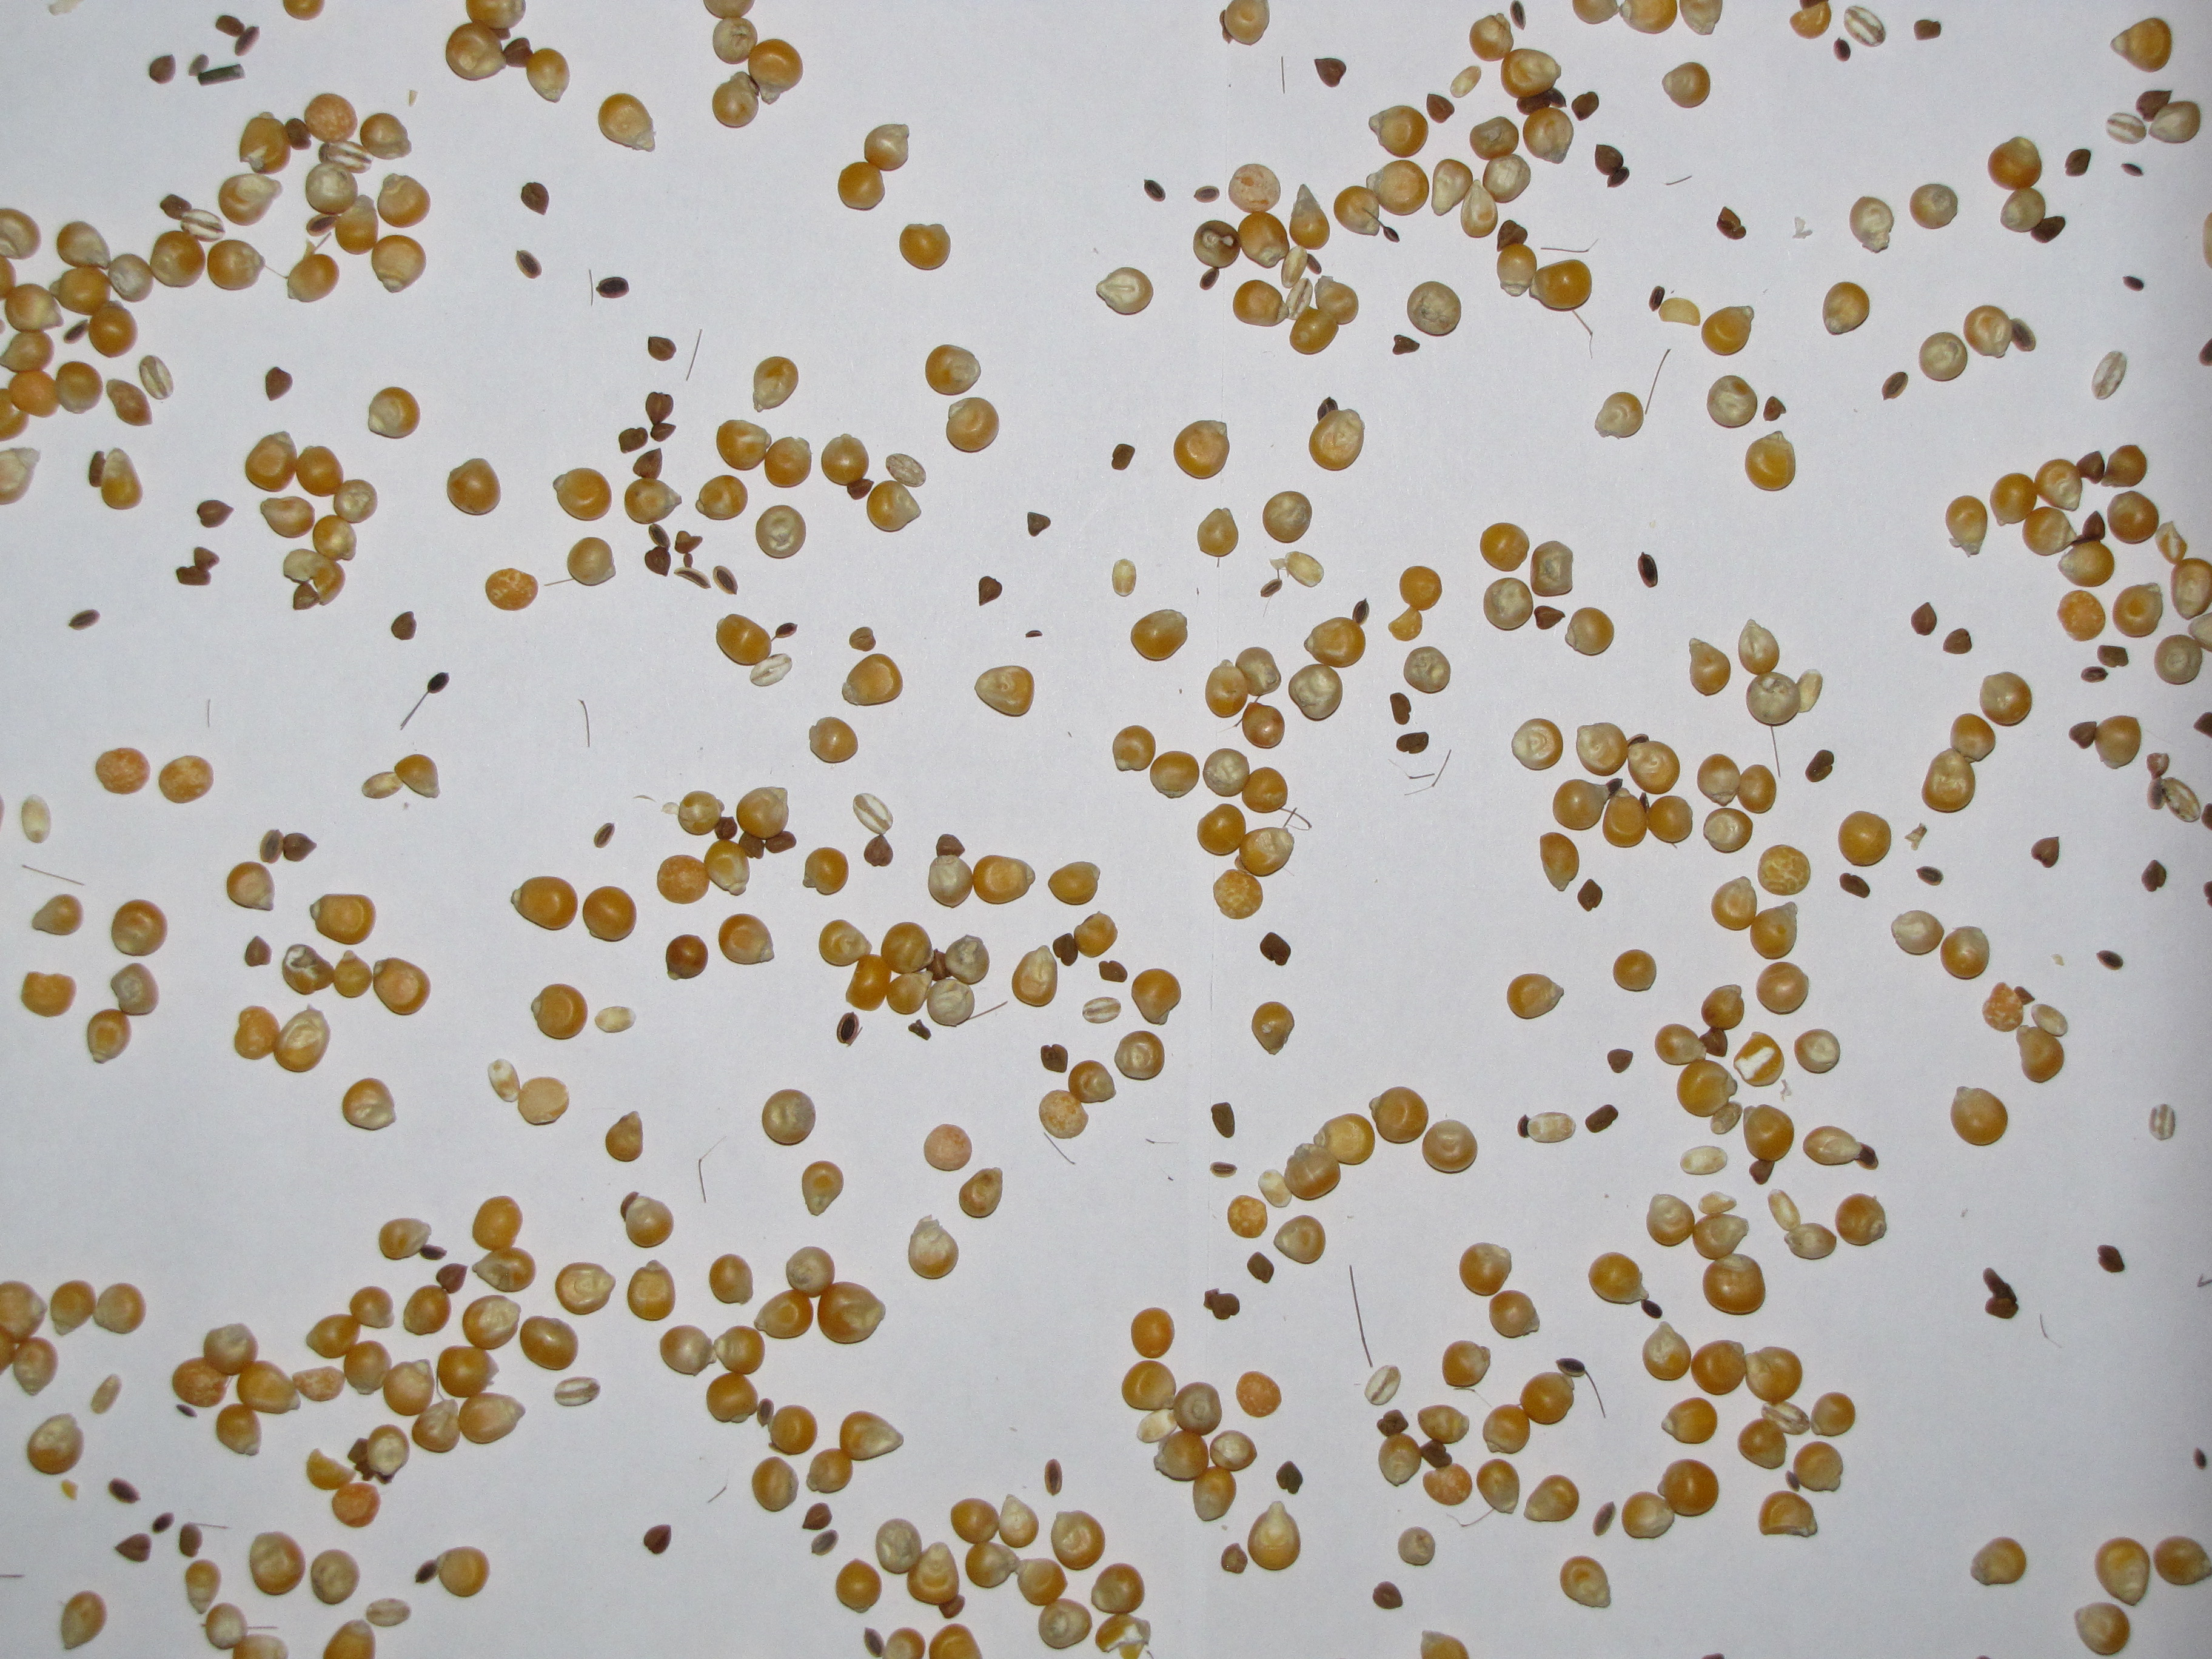mais: (361, 755, 441, 800), (1803, 1126, 1879, 1171), (852, 793, 894, 868), (620, 1192, 674, 1248), (341, 1077, 397, 1131), (376, 173, 430, 228), (2106, 490, 2160, 544), (1733, 1032, 1785, 1087), (1096, 267, 1155, 315), (1012, 945, 1057, 1007), (1756, 962, 1810, 1014), (1757, 843, 1811, 896), (1460, 1243, 1512, 1297), (1130, 969, 1181, 1025), (310, 1549, 361, 1605), (756, 504, 806, 559), (925, 345, 981, 396), (2113, 582, 2163, 638), (401, 673, 449, 730), (1759, 1490, 1818, 1537), (1289, 183, 1331, 249), (1559, 1556, 1611, 1608), (368, 387, 420, 439), (1702, 305, 1756, 356), (1707, 375, 1757, 429), (751, 1457, 799, 1513), (158, 755, 214, 803), (1970, 1537, 2026, 1586), (1507, 972, 1564, 1019), (1982, 981, 2034, 1032), (1512, 718, 1562, 770), (1822, 281, 1871, 335), (1263, 490, 1312, 544), (1484, 577, 1533, 631), (1946, 495, 1987, 558), (1662, 1398, 1717, 1445), (1524, 1474, 1580, 1521), (1850, 195, 1895, 253), (752, 356, 798, 413), (1115, 1030, 1165, 1080), (1273, 1215, 1325, 1263), (695, 474, 749, 521), (1475, 1459, 1521, 1514), (836, 1558, 881, 1614), (1529, 540, 1573, 598), (1689, 638, 1731, 697), (1564, 606, 1615, 655), (1479, 523, 1529, 572), (1489, 1290, 1540, 1338), (226, 861, 275, 911), (1919, 331, 1968, 382), (899, 223, 951, 270), (1890, 910, 1944, 955), (1540, 831, 1580, 892), (801, 1161, 845, 1216), (568, 537, 617, 586), (1594, 392, 1644, 439), (808, 716, 859, 763), (1150, 751, 1200, 798), (958, 1166, 1003, 1218), (1049, 861, 1101, 906), (1130, 1307, 1176, 1359), (1251, 1000, 1294, 1054), (260, 497, 315, 538), (1662, 61, 1710, 108), (1909, 183, 1958, 230), (923, 1124, 972, 1171), (486, 568, 538, 612), (1404, 647, 1451, 694), (106, 378, 152, 427), (803, 847, 848, 896), (709, 1253, 752, 1303), (1237, 1371, 1282, 1419), (1111, 725, 1157, 772), (1794, 1028, 1841, 1073), (1197, 507, 1238, 558), (665, 934, 709, 981), (604, 1110, 643, 1162), (1982, 1267, 2019, 1319), (1613, 950, 1656, 992), (1228, 1194, 1268, 1239), (1644, 349, 1670, 415), (176, 547, 219, 586), (139, 356, 174, 401), (1397, 1527, 1435, 1567), (1595, 145, 1630, 188), (1082, 997, 1122, 1023), (1259, 932, 1291, 965), (197, 64, 246, 85), (197, 500, 233, 528), (1449, 66, 1480, 98), (1804, 749, 1834, 782), (1313, 58, 1346, 87), (265, 366, 293, 401), (521, 181, 549, 216), (1717, 207, 1747, 239), (1372, 1581, 1404, 1610), (2031, 836, 2060, 868), (1247, 1251, 1275, 1284), (1585, 1105, 1618, 1133), (1275, 1460, 1303, 1493), (1211, 1101, 1235, 1138), (244, 936, 272, 967), (1533, 605, 1566, 631), (2141, 859, 2167, 892), (1911, 603, 1937, 636), (1881, 371, 1909, 401), (1426, 94, 1454, 124), (803, 1502, 833, 1530), (643, 1525, 671, 1554), (1040, 1044, 1068, 1073), (1839, 873, 1871, 899), (1221, 1542, 1247, 1574), (1578, 878, 1602, 911), (1395, 732, 1430, 755), (1571, 92, 1599, 120), (2097, 1244, 2125, 1272), (2064, 148, 2092, 176), (712, 565, 738, 594), (1942, 627, 1972, 653), (618, 427, 648, 453), (1637, 552, 1658, 589), (1432, 749, 1451, 788), (848, 626, 876, 652), (390, 612, 416, 640), (935, 833, 965, 857), (648, 336, 678, 361), (2097, 645, 2128, 667), (1043, 1459, 1062, 1495), (1390, 692, 1411, 725), (596, 277, 629, 298), (1111, 443, 1136, 471), (1099, 960, 1129, 983), (979, 577, 1001, 606), (1763, 396, 1787, 422), (1608, 1049, 1634, 1073), (1392, 335, 1420, 356), (1914, 19, 1942, 40), (1028, 512, 1050, 537), (2097, 950, 2123, 971), (1916, 866, 1944, 885), (1193, 185, 1219, 204), (2080, 666, 2107, 683), (909, 1019, 932, 1040), (1144, 179, 1165, 202), (1832, 38, 1851, 61), (1649, 286, 1665, 312), (2123, 275, 2144, 291), (176, 1405, 197, 1417), (1541, 247, 1588, 253), (1207, 1448, 1216, 1467), (1409, 774, 1433, 779), (1282, 58, 1285, 94), (890, 971, 900, 983), (308, 579, 317, 592), (1026, 631, 1042, 638), (1683, 176, 1691, 181)
